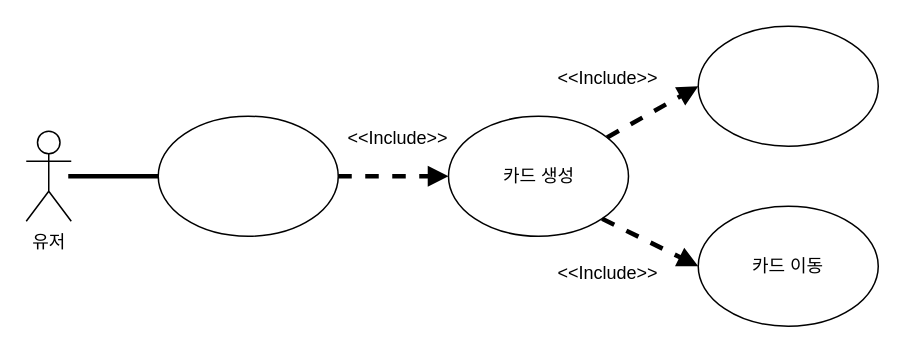
Image size: 905x353. Some labels were removed from this diagram. The shapes that lost their labels are listed below. From the top down, each one's centre as x and y in pixels, then its label:
At [787,85]: "카드 내용 업데이트".
At [247,175]: "리스트 생성".
